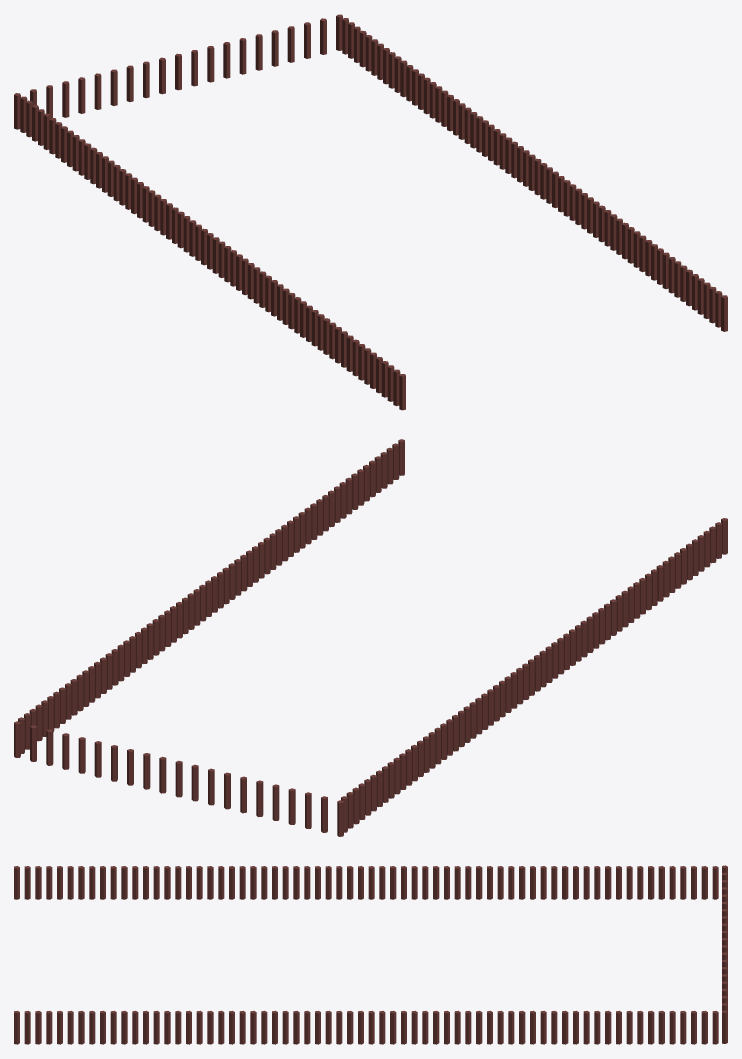
The model's file is yard_closing.glb.
3 views of the same model, one above another, from view 1: azimuth 30°, elevation 25°; view 2: azimuth 150°, elevation 25°; view 3: azimuth 270°, elevation 25° (orthographic). The views are drawn at different scales.
Parts seen in each view (by area): view 1: Yard.Closing; view 2: Yard.Closing; view 3: Yard.Closing.
Boxes of the visible parts, bbox=[...] form: Yard.Closing: bbox=[14, 14, 727, 410]; Yard.Closing: bbox=[14, 439, 727, 836]; Yard.Closing: bbox=[14, 865, 727, 1044].
Size of the model in its own units: 6.73 by 0.6604 by 13.72.
1 material, 1 textured.
